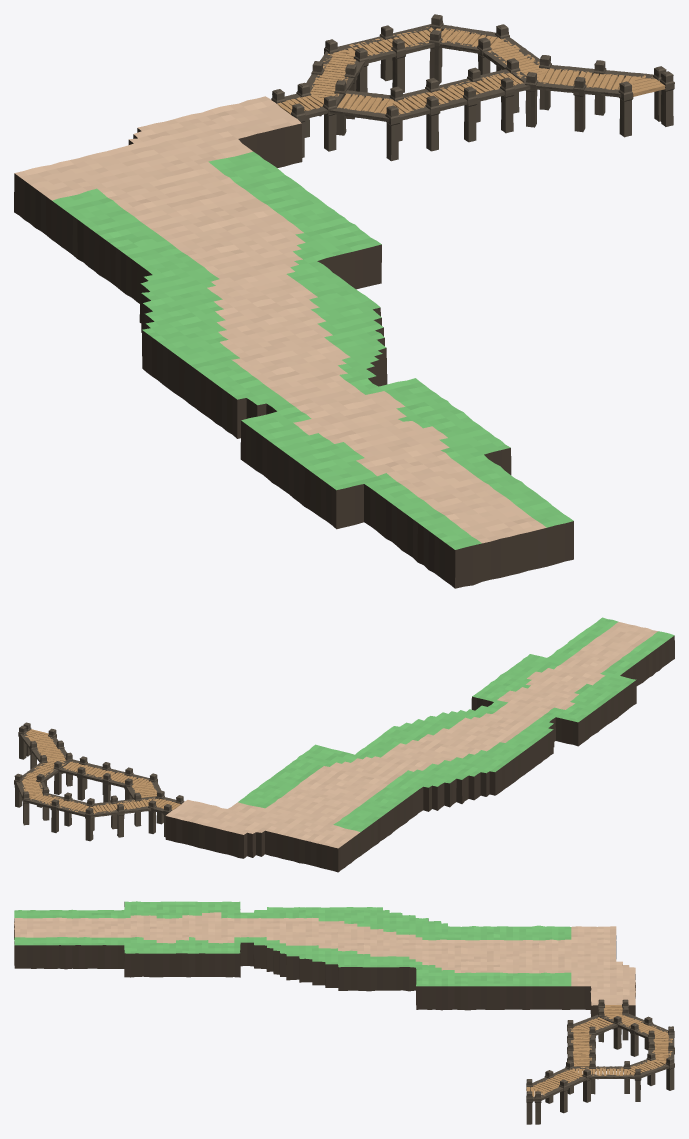
The model's file is WorldSectionOne.fbx.
The picture shows the model from 3 angles, top to bottom: view 1: azimuth 30°, elevation 25°; view 2: azimuth 150°, elevation 25°; view 3: azimuth 270°, elevation 25°; orthographic projection. The views are drawn at different scales.
Parts seen in each view (by area): view 1: Plane, Bridge; view 2: Plane, Bridge; view 3: Plane, Bridge.
Boxes of the visible parts, left/top/right/bottom form: Plane: left=14, top=96, right=573, bottom=588; Bridge: left=271, top=14, right=674, bottom=161; Plane: left=165, top=617, right=674, bottom=872; Bridge: left=14, top=722, right=184, bottom=841; Plane: left=14, top=901, right=635, bottom=1029; Bridge: left=526, top=999, right=674, bottom=1124.
Bounding box in the file's own units: 15837 × 1170 × 22307.
